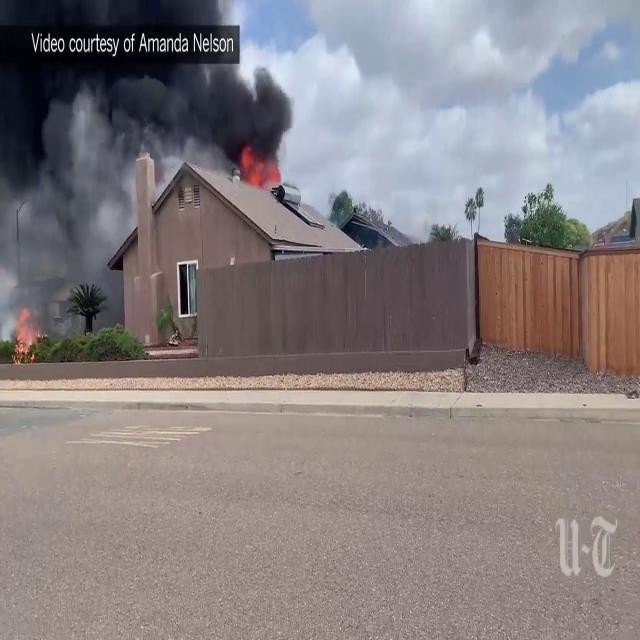Fire: (4, 306, 44, 359)
Smoke: (0, 0, 292, 183)
